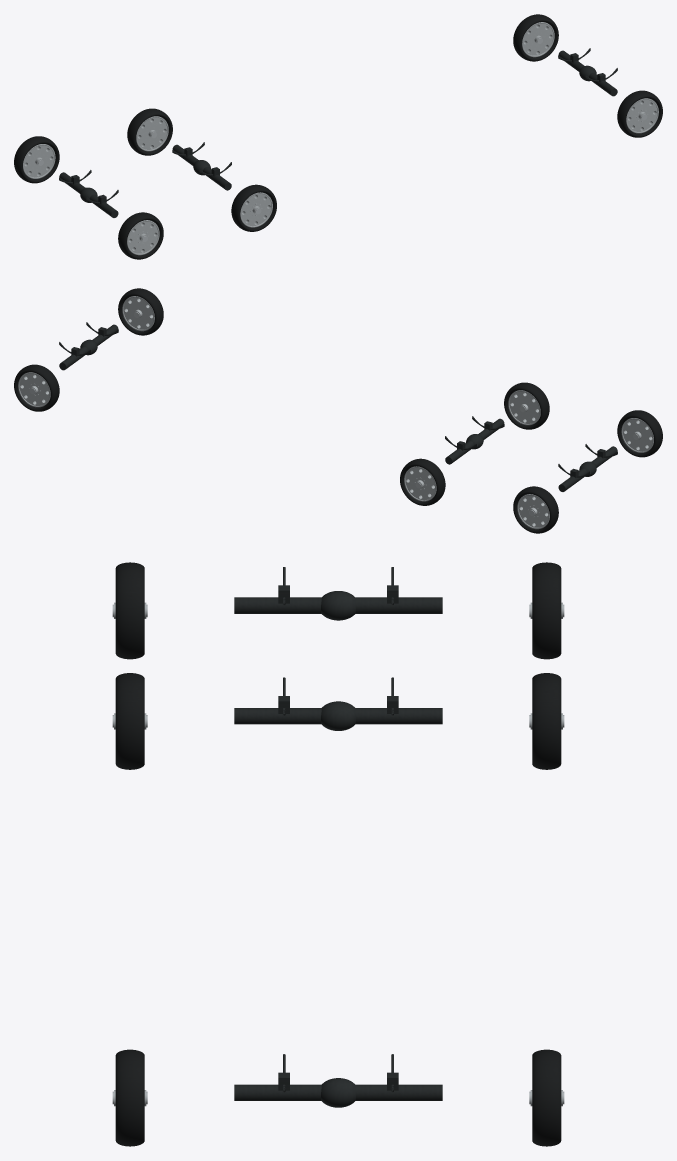
File: axle_suspension.glb
3 renders of one model, top to bottom at view 1: azimuth 30°, elevation 25°; view 2: azimuth 150°, elevation 25°; view 3: azimuth 270°, elevation 25°, orthographic. The views are drawn at different scales.
Parts seen in each view (by area): view 1: Axle 2 wheel 1 rounded tyre carcass, Axle 3 wheel -1 rounded tyre carcass, Axle 1 wheel 1 rounded tyre carcass, Axle 1 wheel -1 rounded tyre carcass, Axle 2 wheel -1 rounded tyre carcass, Axle 3 wheel 1 rounded tyre carcass, Axle 1 wheel 1 pressed wheel disc with ventilation apertures, Axle 3 wheel 1 pressed wheel disc with ventilation apertures, Axle 2 wheel 1 pressed wheel disc with ventilation apertures, Axle 1 wheel -1 pressed wheel disc with ventilation aperture, Axle 3 wheel -1 pressed wheel disc with ventilation aperture, Axle 2 wheel -1 pressed wheel disc with ventilation aperture (+3 smaller); view 2: Axle 2 wheel -1 rounded tyre carcass, Axle 3 wheel 1 rounded tyre carcass, Axle 1 wheel 1 rounded tyre carcass, Axle 1 wheel -1 rounded tyre carcass, Axle 2 wheel 1 rounded tyre carcass, Axle 3 wheel -1 rounded tyre carcass, Axle 1 wheel -1 pressed wheel disc with ventilation aperture, Axle 3 wheel -1 pressed wheel disc with ventilation aperture, Axle 2 wheel -1 pressed wheel disc with ventilation aperture, Axle 1 wheel 1 pressed wheel disc with ventilation apertures, Axle 3 wheel 1 pressed wheel disc with ventilation apertures, Axle 2 wheel 1 pressed wheel disc with ventilation apertures (+3 smaller); view 3: Axle 1 wheel 1 rounded tyre carcass, Axle 1 wheel -1 rounded tyre carcass, Axle 3 wheel 1 rounded tyre carcass, Axle 3 wheel -1 rounded tyre carcass, Axle 2 through housing, Axle 2 wheel 1 rounded tyre carcass, Axle 2 wheel -1 rounded tyre carcass, Axle 3 through housing, Axle 1 through housing, Axle 2 differential case, Axle 3 differential case, Axle 1 differential case.
Part boxes in pixels (left/top/right/bottom): Axle 2 wheel 1 rounded tyre carcass: left=127, top=108, right=172, bottom=155; Axle 3 wheel -1 rounded tyre carcass: left=118, top=212, right=163, bottom=259; Axle 1 wheel 1 rounded tyre carcass: left=513, top=14, right=558, bottom=61; Axle 1 wheel -1 rounded tyre carcass: left=617, top=90, right=662, bottom=137; Axle 2 wheel -1 rounded tyre carcass: left=231, top=184, right=276, bottom=231; Axle 3 wheel 1 rounded tyre carcass: left=14, top=136, right=59, bottom=183; Axle 1 wheel 1 pressed wheel disc with ventilation apertures: left=523, top=23, right=553, bottom=55; Axle 3 wheel 1 pressed wheel disc with ventilation apertures: left=24, top=145, right=53, bottom=177; Axle 2 wheel 1 pressed wheel disc with ventilation apertures: left=137, top=117, right=167, bottom=149; Axle 1 wheel -1 pressed wheel disc with ventilation aperture: left=627, top=99, right=657, bottom=131; Axle 3 wheel -1 pressed wheel disc with ventilation aperture: left=128, top=221, right=158, bottom=253; Axle 2 wheel -1 pressed wheel disc with ventilation aperture: left=241, top=194, right=271, bottom=226; Axle 2 wheel -1 rounded tyre carcass: left=504, top=382, right=549, bottom=429; Axle 3 wheel 1 rounded tyre carcass: left=513, top=486, right=558, bottom=533; Axle 1 wheel 1 rounded tyre carcass: left=14, top=364, right=59, bottom=411; Axle 1 wheel -1 rounded tyre carcass: left=118, top=288, right=163, bottom=335; Axle 2 wheel 1 rounded tyre carcass: left=400, top=458, right=445, bottom=505; Axle 3 wheel -1 rounded tyre carcass: left=617, top=410, right=662, bottom=457; Axle 1 wheel -1 pressed wheel disc with ventilation aperture: left=123, top=297, right=153, bottom=329; Axle 3 wheel -1 pressed wheel disc with ventilation aperture: left=623, top=419, right=652, bottom=451; Axle 2 wheel -1 pressed wheel disc with ventilation aperture: left=509, top=391, right=539, bottom=423; Axle 1 wheel 1 pressed wheel disc with ventilation apertures: left=19, top=373, right=49, bottom=405; Axle 3 wheel 1 pressed wheel disc with ventilation apertures: left=518, top=495, right=548, bottom=527; Axle 2 wheel 1 pressed wheel disc with ventilation apertures: left=405, top=468, right=435, bottom=500; Axle 1 wheel 1 rounded tyre carcass: left=532, top=1049, right=561, bottom=1146; Axle 1 wheel -1 rounded tyre carcass: left=115, top=1049, right=144, bottom=1146; Axle 3 wheel 1 rounded tyre carcass: left=532, top=562, right=561, bottom=659; Axle 3 wheel -1 rounded tyre carcass: left=115, top=562, right=144, bottom=659; Axle 2 through housing: left=234, top=708, right=442, bottom=724; Axle 2 wheel 1 rounded tyre carcass: left=532, top=673, right=561, bottom=769; Axle 2 wheel -1 rounded tyre carcass: left=115, top=673, right=144, bottom=769; Axle 3 through housing: left=234, top=597, right=442, bottom=613; Axle 1 through housing: left=234, top=1084, right=442, bottom=1100; Axle 2 differential case: left=321, top=701, right=355, bottom=730; Axle 3 differential case: left=321, top=591, right=355, bottom=620; Axle 1 differential case: left=321, top=1078, right=355, bottom=1107.
Size of the model in its own units: 12.9 by 1 by 4.66.
4 materials, 4 textured.
